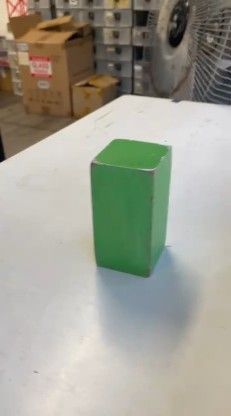green: (84, 131, 174, 277)
